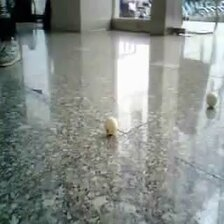w: (104, 117, 118, 134), (205, 92, 219, 108)
